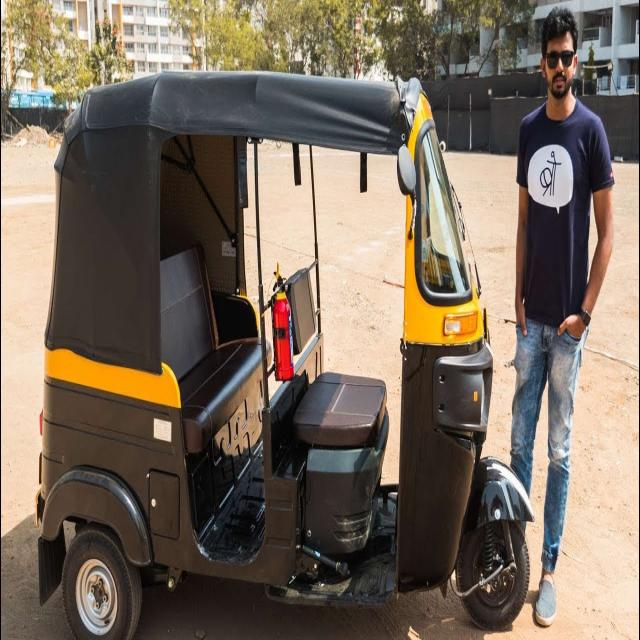autorickshaw: (32, 73, 530, 638)
